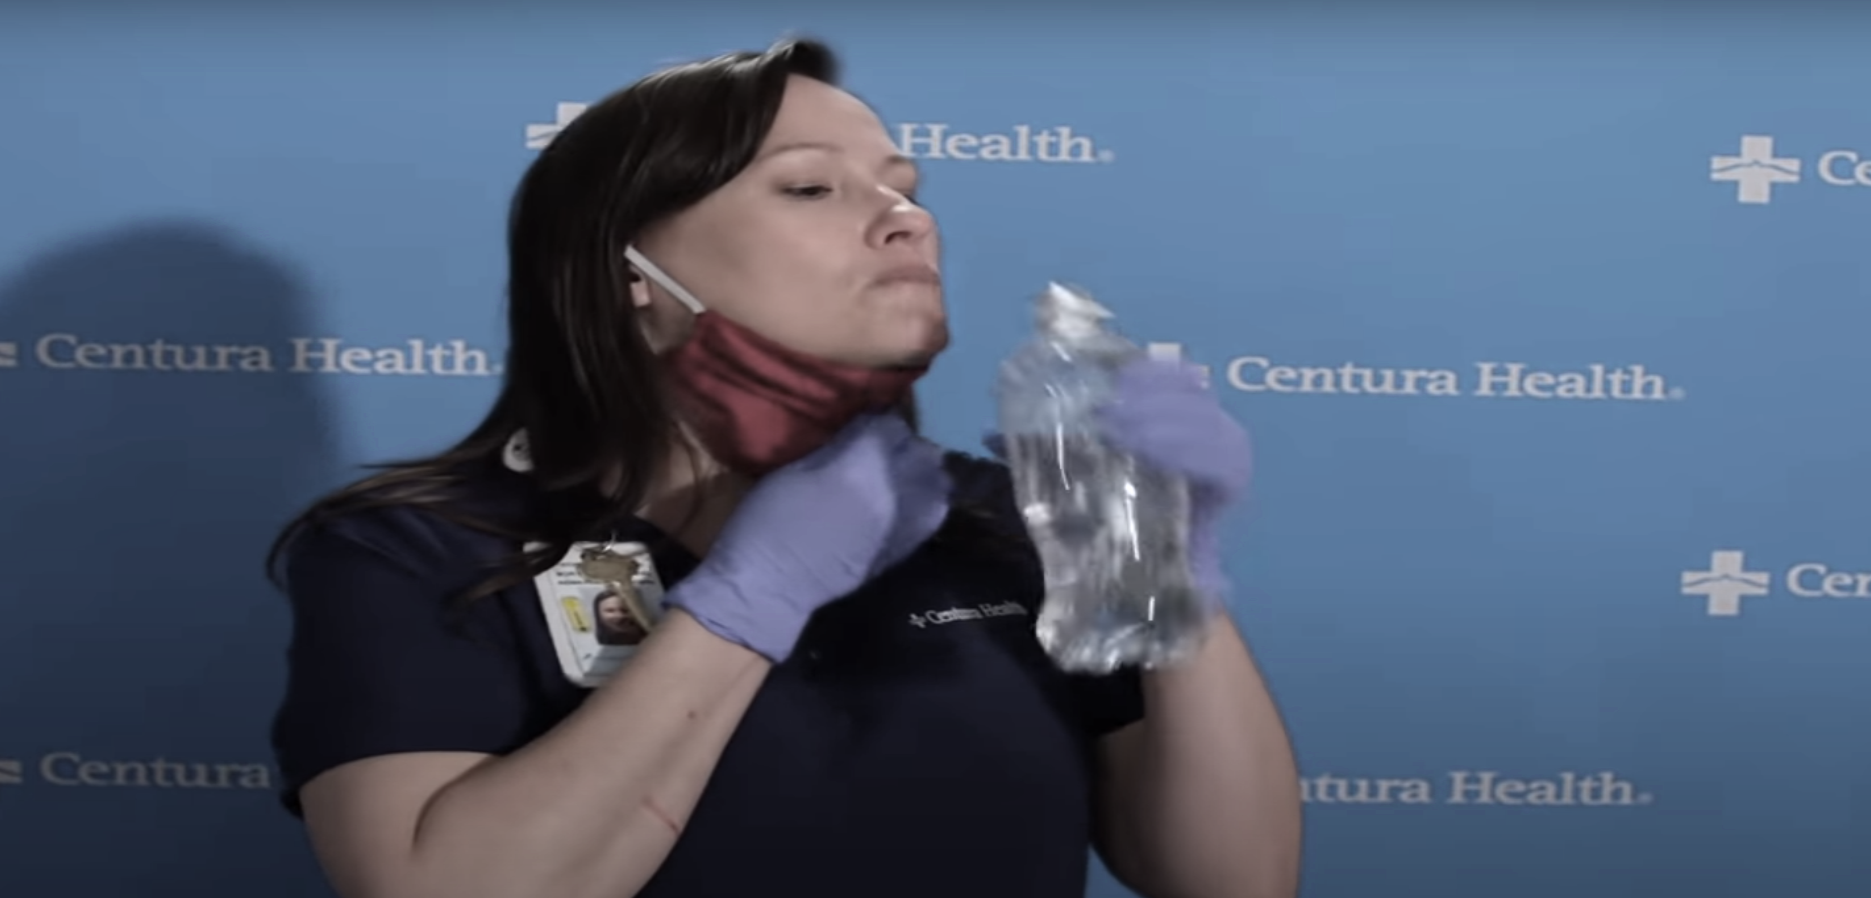mask_weared_incorrect: (512, 40, 950, 477)
